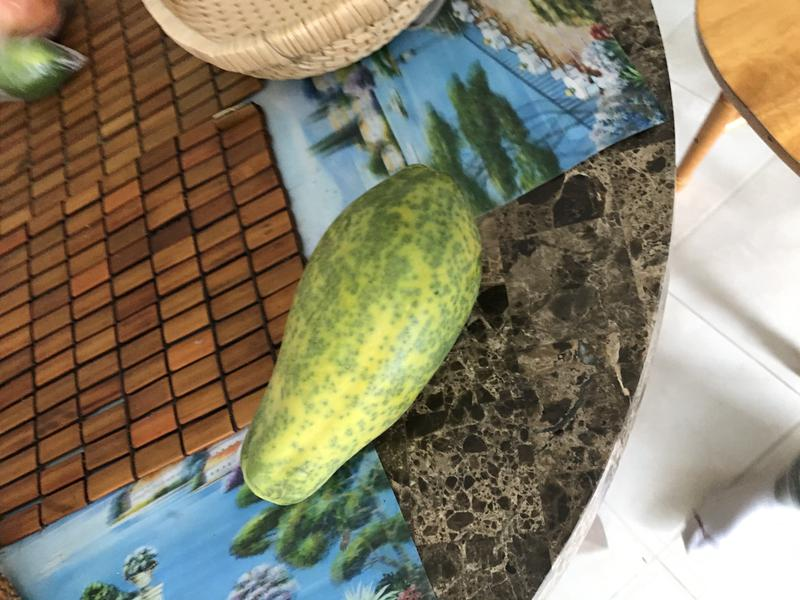papaya: (232, 159, 489, 518)
